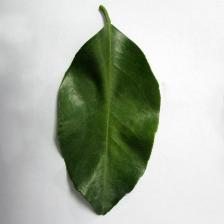healthy: (54, 22, 163, 217)
